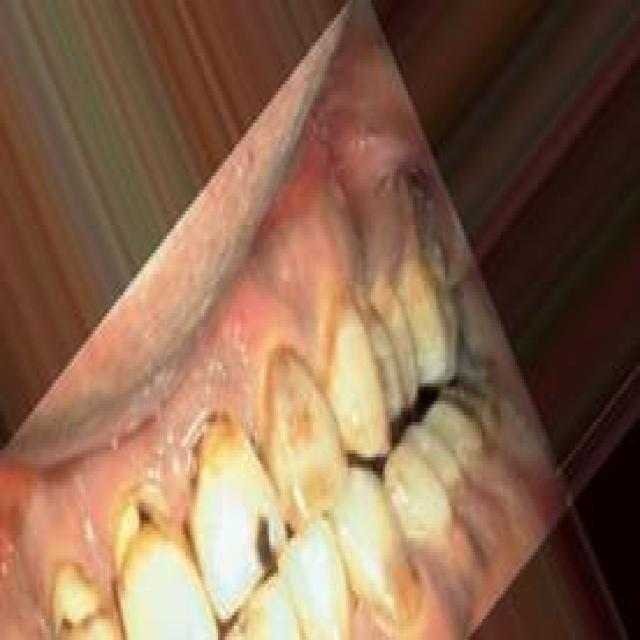caries: (106, 485, 180, 573), (49, 563, 109, 640), (184, 411, 223, 491), (245, 506, 286, 580)
